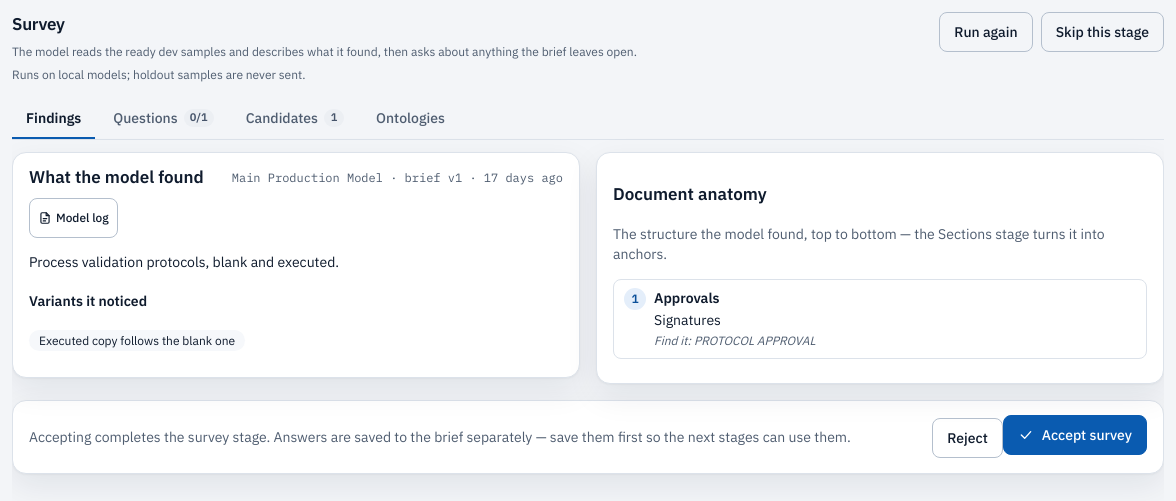
Test: SurveyTab › explains why Save answers and Run again are disabled
Click the tab "Questions 0/1" at (164, 119), box [99, 99, 228, 139]
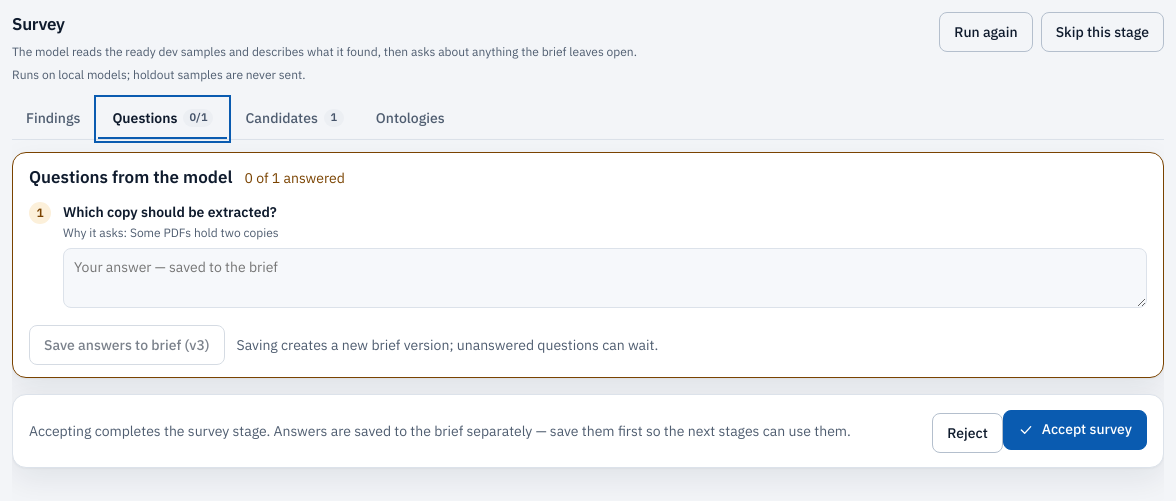
Check: the button "Run again" is enabled, box [939, 12, 1033, 52]
Check: the button "Save answers to brief (v3)" is disabled, box [29, 325, 224, 365]
Type "Executed" into the text box named "Which copy should be extracted?" at (605, 278), box [63, 248, 1147, 308]
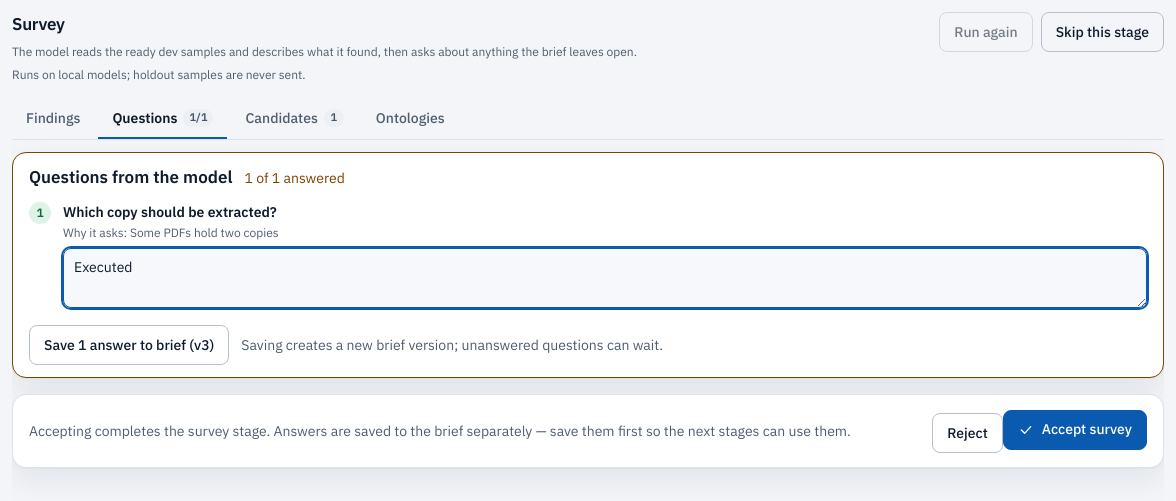
Check: the button "Run again" is disabled, box [939, 12, 1033, 52]
